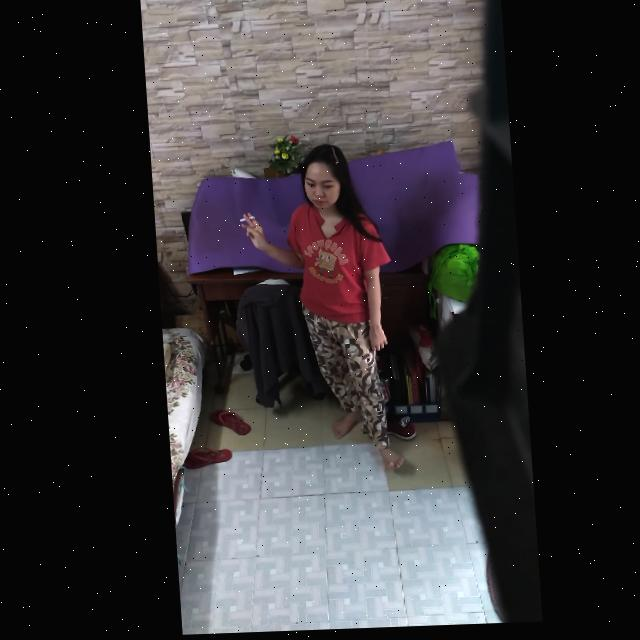cigarette: (236, 219, 252, 223)
